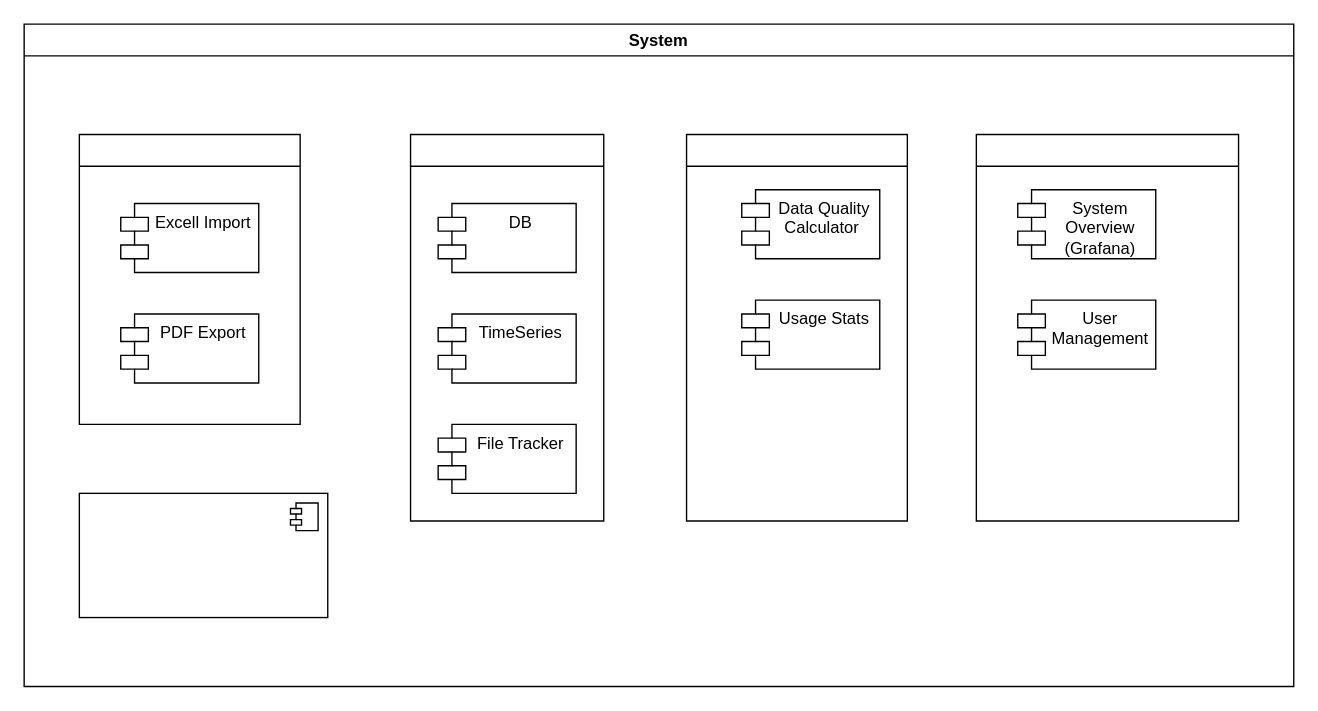
Some shapes in this 1318 by 711 pixel diagram are drawn without their labels. The box of each missing label's shape, as (x1, y1, x2, y2) in pixels:
File Manager: (78, 133, 300, 424)
GUI Server: (78, 492, 328, 618)
Persistence: (409, 133, 604, 521)
Statistics Engine: (685, 133, 907, 521)
System Monitoring: (975, 133, 1239, 521)
